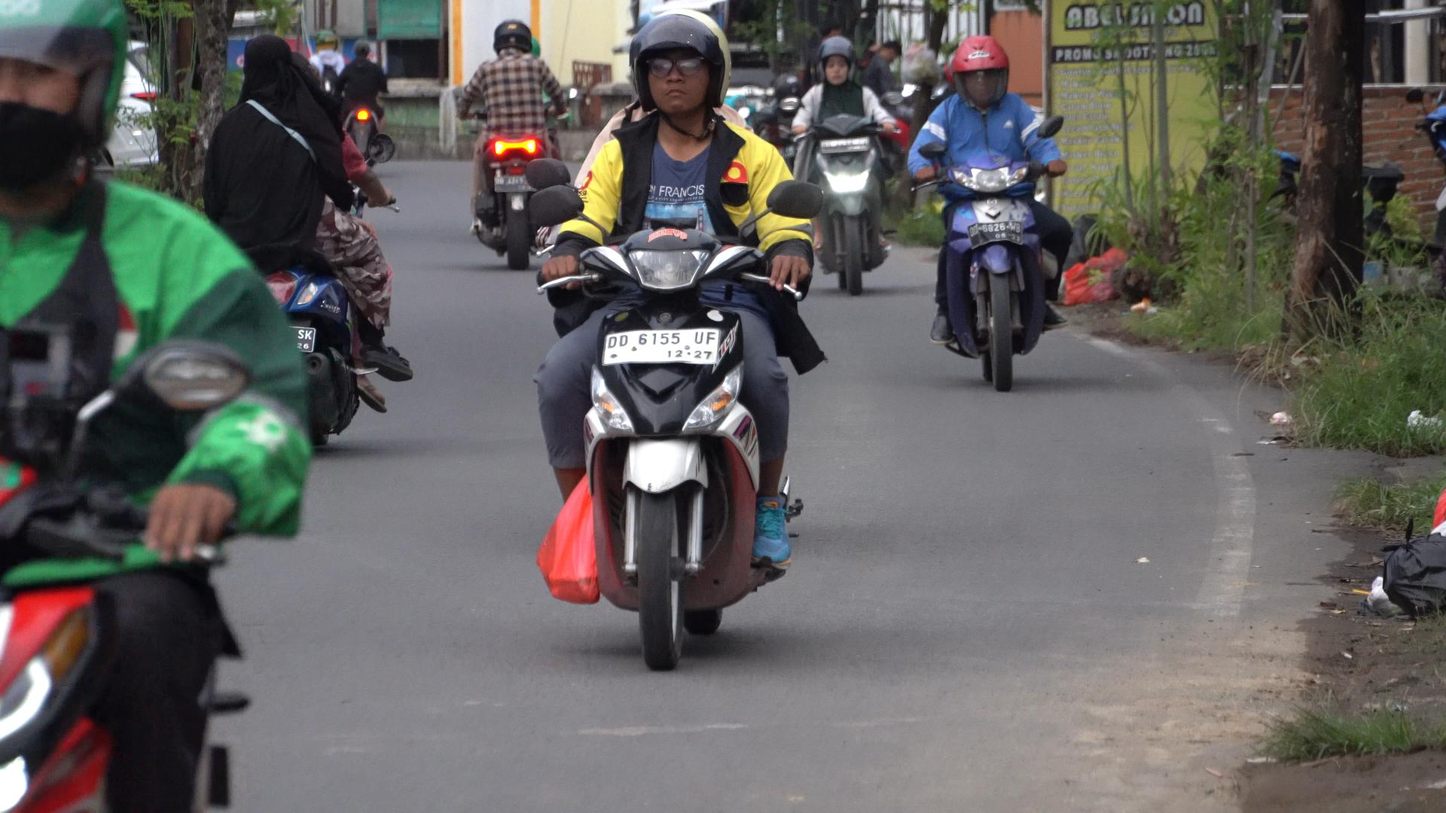number-plate: (604, 321, 721, 370), (964, 220, 1030, 247)
